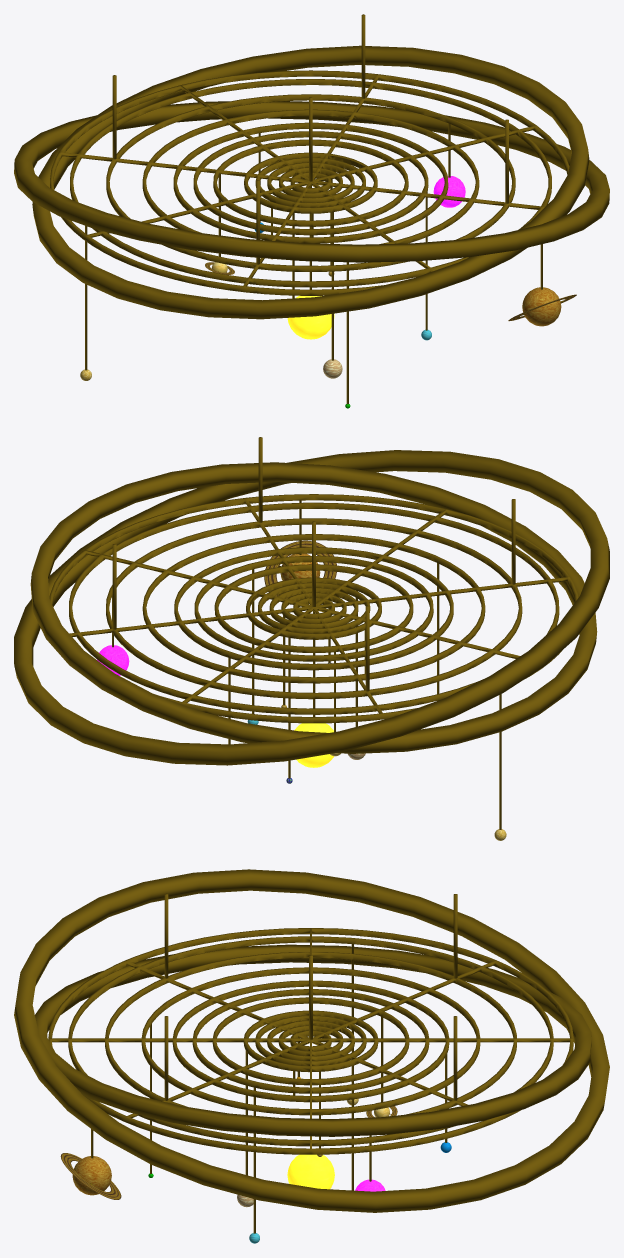
The model's file is Planetarium final.glb.
3 renders of one model, top to bottom at view 1: azimuth 30°, elevation 25°; view 2: azimuth 150°, elevation 25°; view 3: azimuth 270°, elevation 25°, orthographic.
Visible parts, largest first — view 1: Planetarium, Circle, Circle.001, Sphere.011, Sphere, Sphere.010; view 2: Planetarium, Circle.001, Circle, Sphere, Torus.001; view 3: Planetarium, Circle.001, Circle, Sphere, Sphere.011, Torus.001.
Part boxes in pixels (left/top/right/bottom): Planetarium: left=50, top=70, right=569, bottom=404; Circle: left=32, top=45, right=589, bottom=319; Circle.001: left=14, top=101, right=609, bottom=262; Sphere.011: left=522, top=287, right=561, bottom=326; Sphere: left=287, top=295, right=334, bottom=339; Sphere.010: left=433, top=176, right=465, bottom=207; Planetarium: left=49, top=494, right=578, bottom=829; Circle.001: left=14, top=450, right=609, bottom=765; Circle: left=30, top=462, right=597, bottom=753; Sphere: left=294, top=723, right=333, bottom=767; Torus.001: left=264, top=540, right=336, bottom=604; Planetarium: left=48, top=928, right=573, bottom=1233; Circle.001: left=14, top=869, right=609, bottom=1212; Circle: left=35, top=944, right=591, bottom=1136; Sphere: left=287, top=1154, right=334, bottom=1189; Sphere.011: left=72, top=1156, right=111, bottom=1195; Torus.001: left=60, top=1153, right=121, bottom=1199.
Size of the model in its own units: 36.59 by 17.3 by 36.57.
15 materials, 14 textured.
